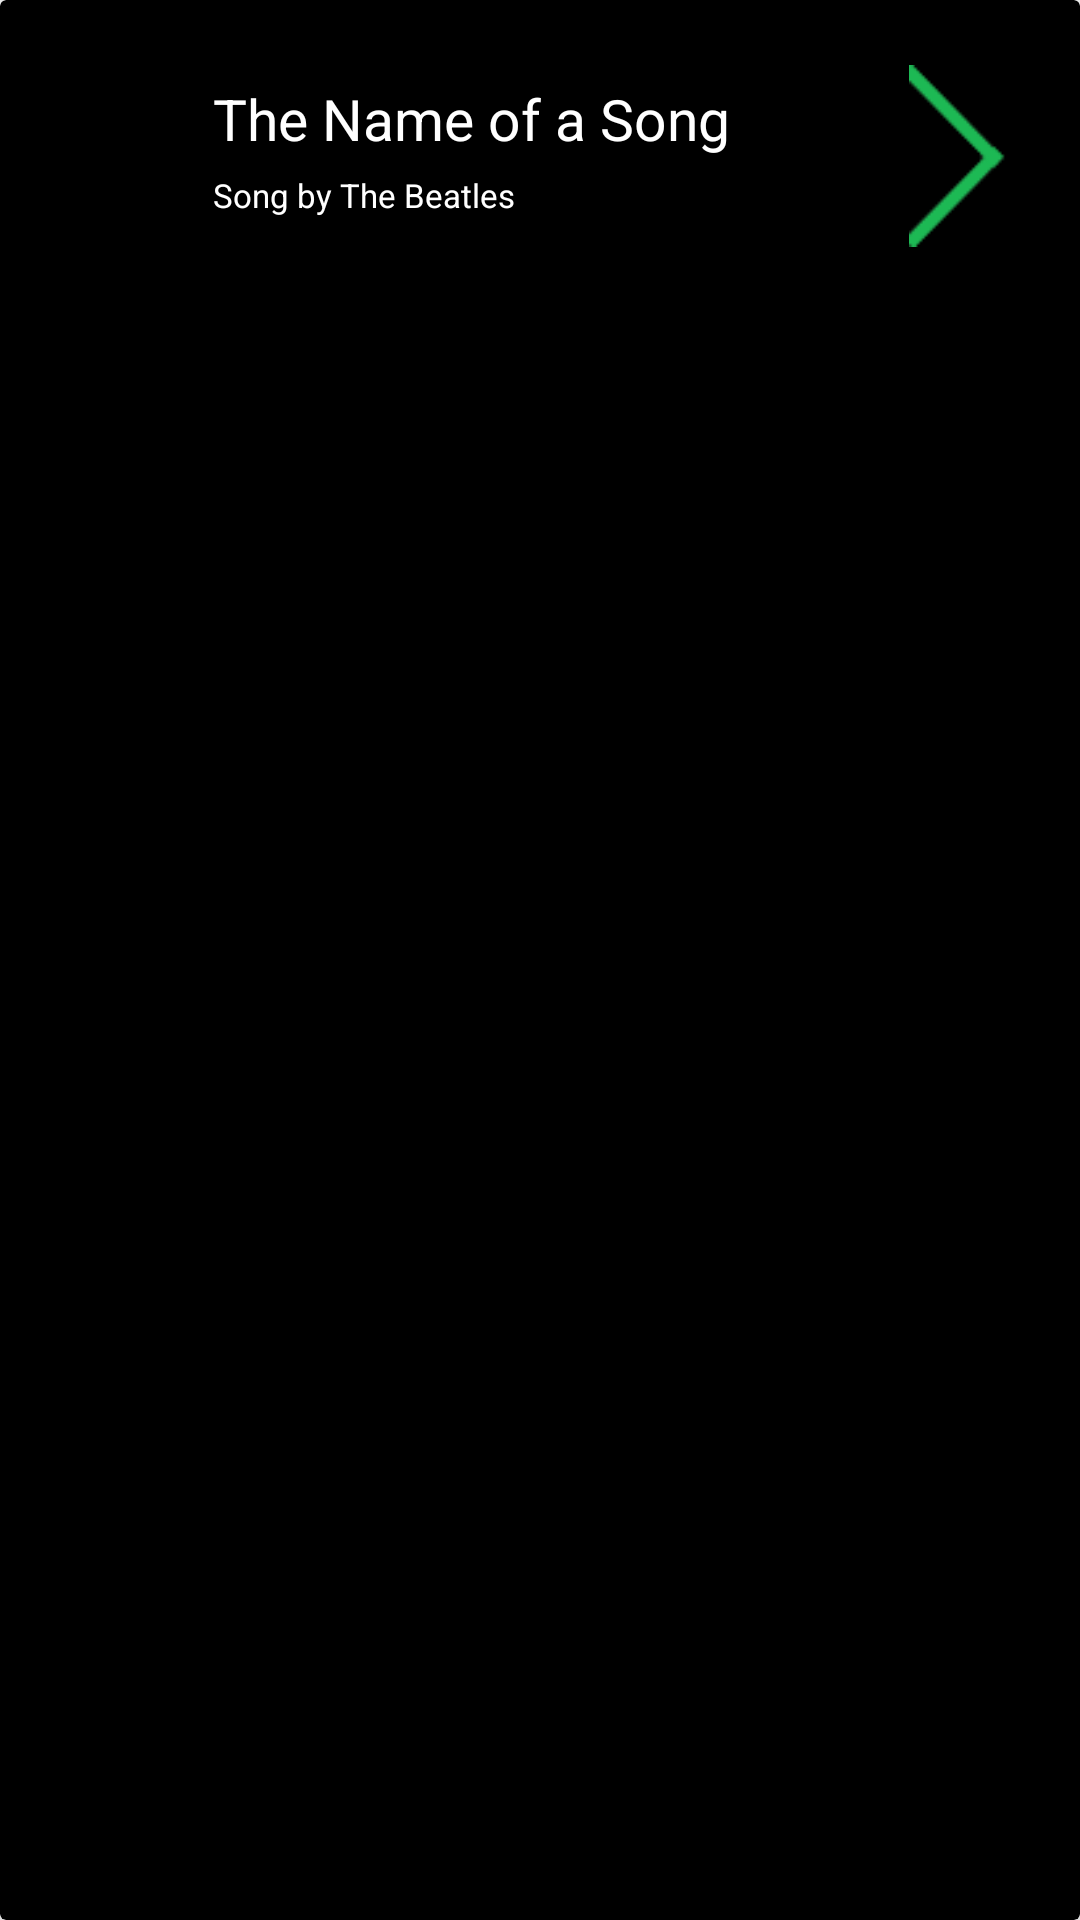

Icon bounding boxes for this 1080px x 1920px phone screenshot, format (x1, y1, x2, y2):
enter profile arrow: (909, 65, 1004, 247)
